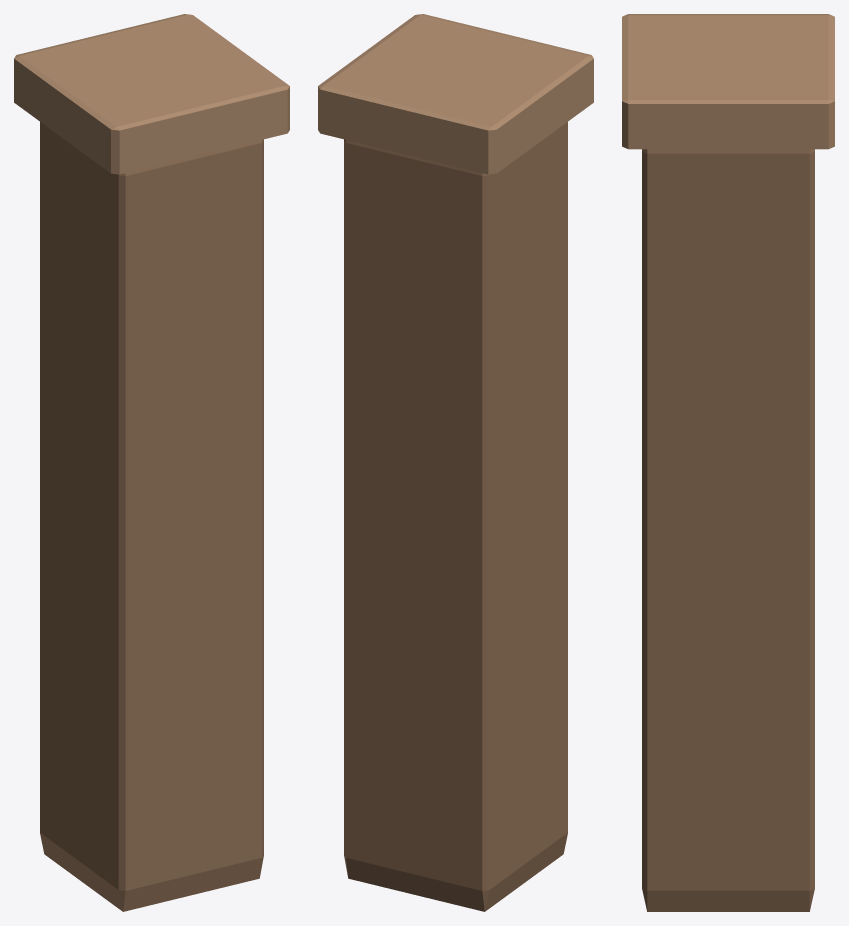
The model's file is fence_wood_post.glb.
The picture shows the model from 3 angles, left to right: view 1: azimuth 30°, elevation 25°; view 2: azimuth 150°, elevation 25°; view 3: azimuth 270°, elevation 25°; orthographic projection. The views are drawn at different scales.
Visible parts, largest first — view 1: fence_wood_post; view 2: fence_wood_post; view 3: fence_wood_post.
Part boxes in pixels (x1,y1,x2,y2): fence_wood_post: [14, 14, 289, 911]; fence_wood_post: [318, 14, 593, 911]; fence_wood_post: [622, 14, 834, 911].
Bounding box in the file's own units: 0.32 × 1.36 × 0.32.
